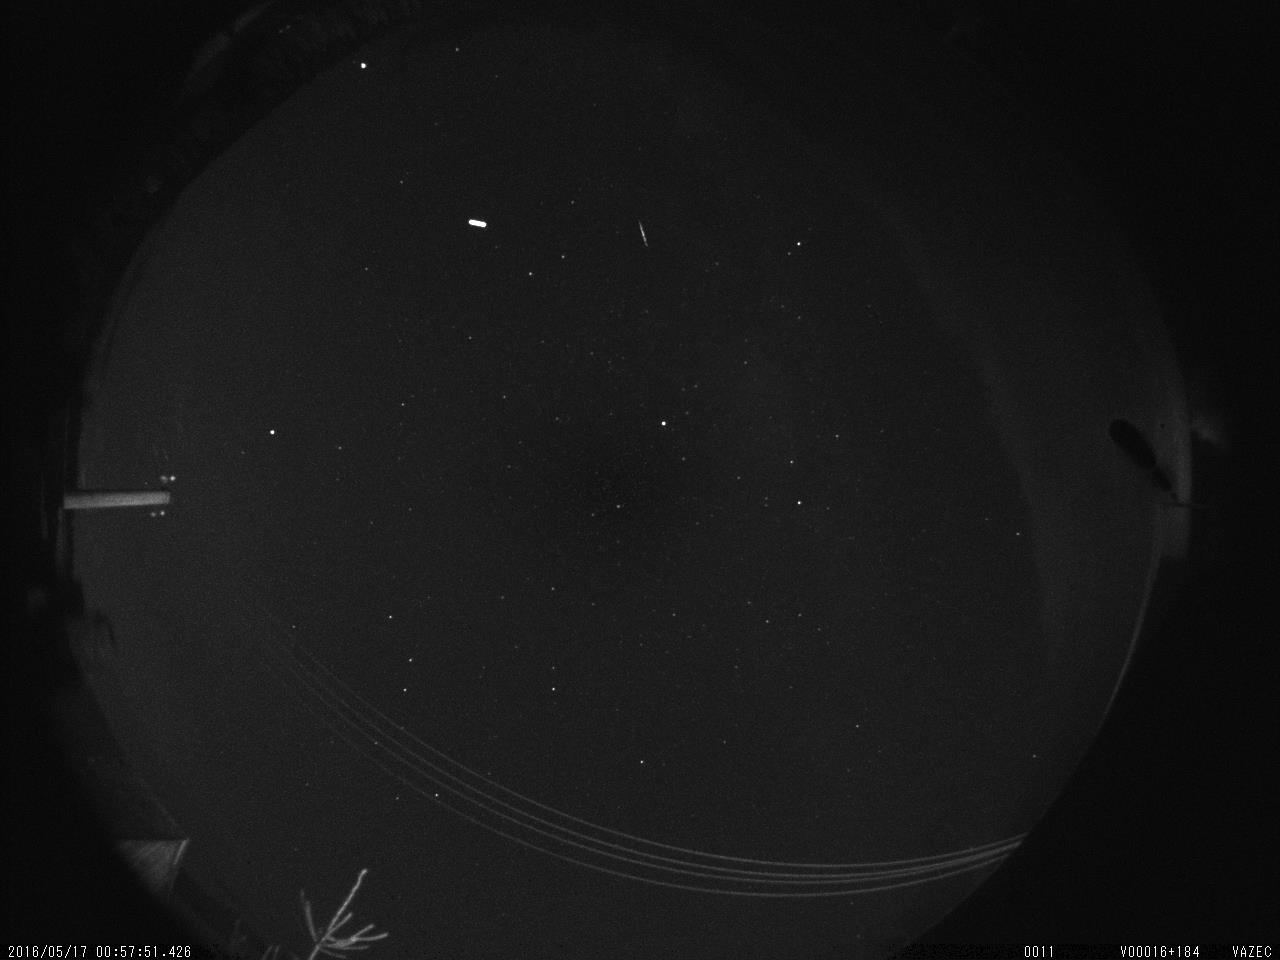meteor: (633, 213, 657, 254)
